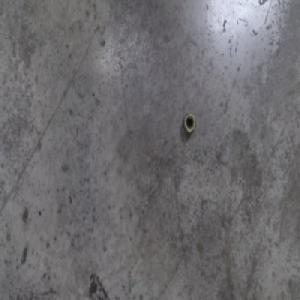Nut: (183, 112, 196, 135)
